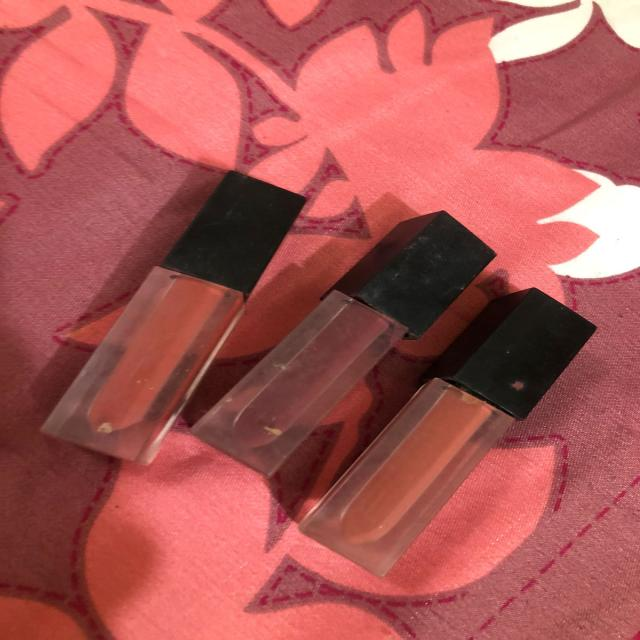lip gloss: (287, 276, 609, 582), (199, 195, 521, 495), (41, 162, 332, 472)
